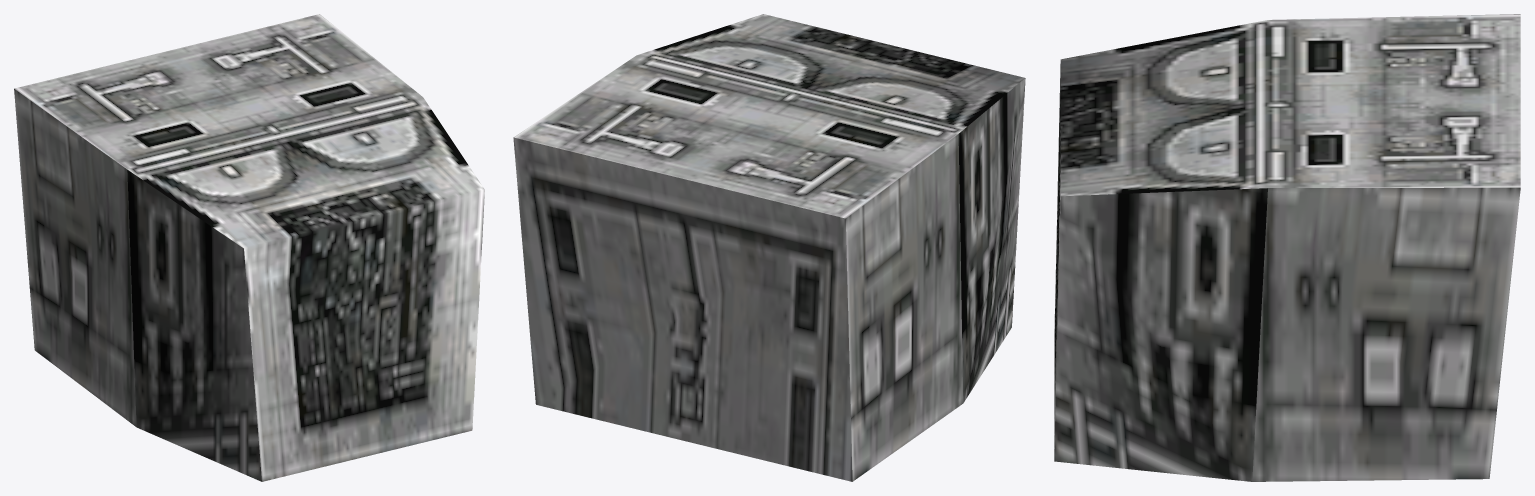
The model's file is star_destroyer_turret_square_base_l3.fbx.
3 renders of one model, left to right at view 1: azimuth 30°, elevation 25°; view 2: azimuth 150°, elevation 25°; view 3: azimuth 270°, elevation 25°, orthographic. The views are drawn at different scales.
Visible parts, largest first — view 1: mesh_node; view 2: mesh_node; view 3: mesh_node.
Part boxes in pixels (x1,y1,x2,y2): mesh_node: (14,14,484,481); mesh_node: (513,14,1025,481); mesh_node: (1054,14,1520,481).
Size of the model in its own units: 35.83 by 28.94 by 40.68.
Materials: 1 (1 with a texture image).
